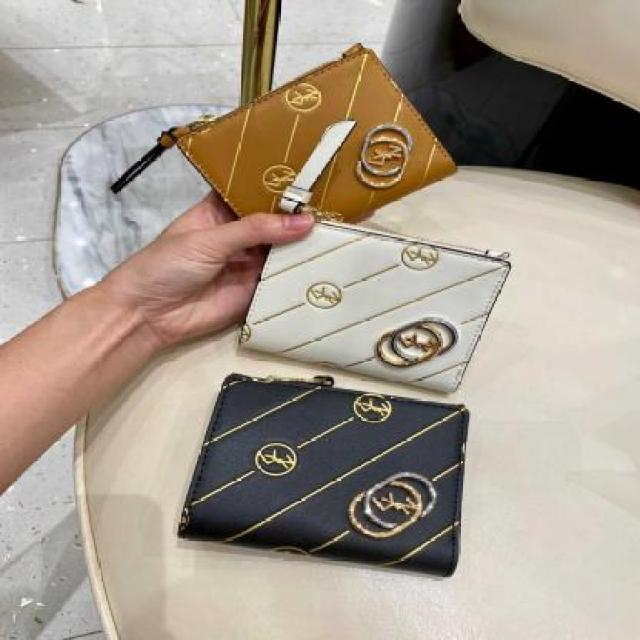Bag: (108, 19, 506, 252), (162, 338, 506, 593), (205, 181, 530, 404)
